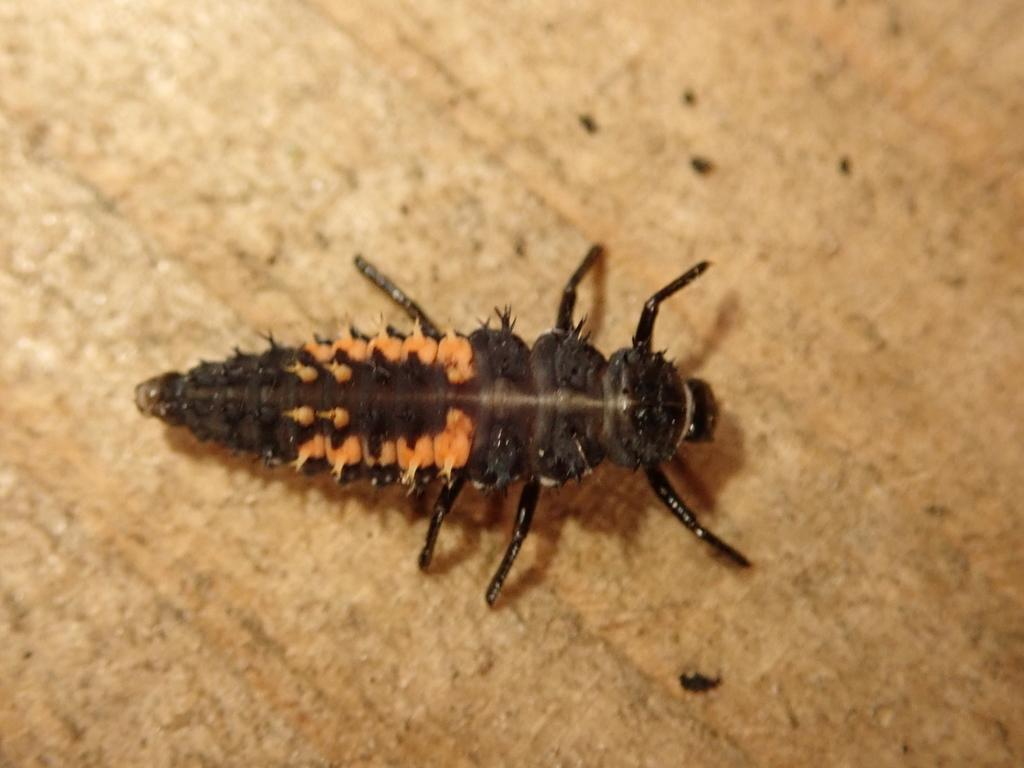ladybug: (135, 239, 761, 611)
